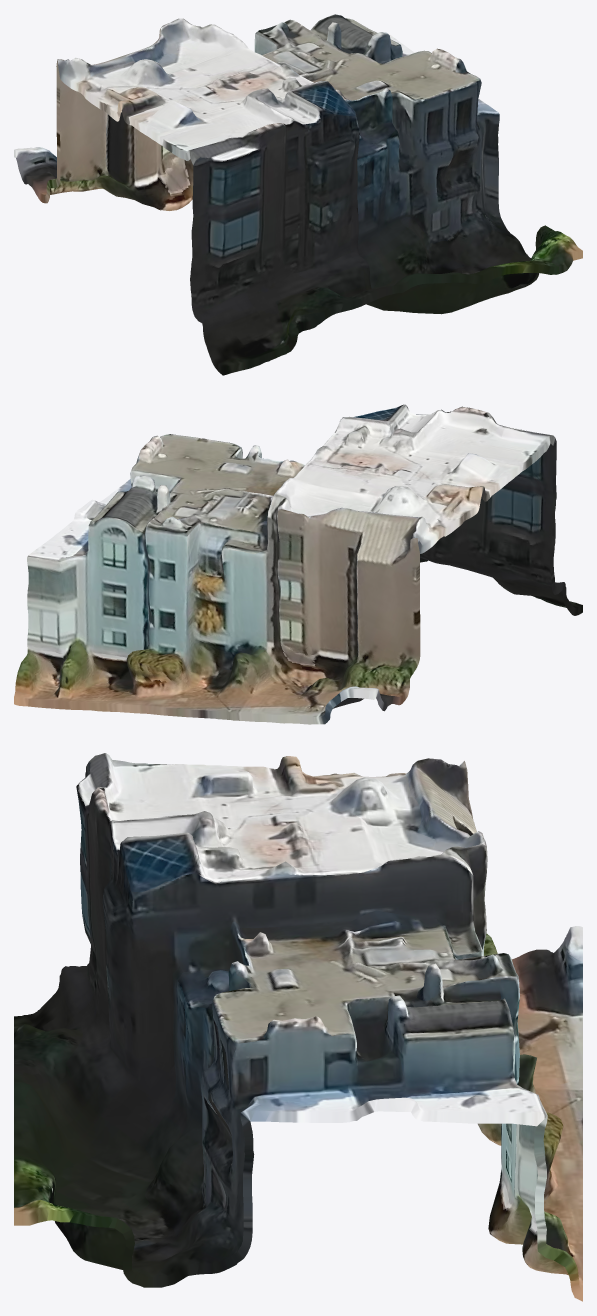
File: z20-167715-405195-h0-yup-uvflip-v3-world.glb
The picture shows the model from 3 angles, top to bottom: view 1: azimuth 30°, elevation 25°; view 2: azimuth 150°, elevation 25°; view 3: azimuth 270°, elevation 25°; orthographic projection. The views are drawn at different scales.
Size of the model in its own units: 30.16 by 18.84 by 30.32.
Materials: 1 (1 with a texture image).
